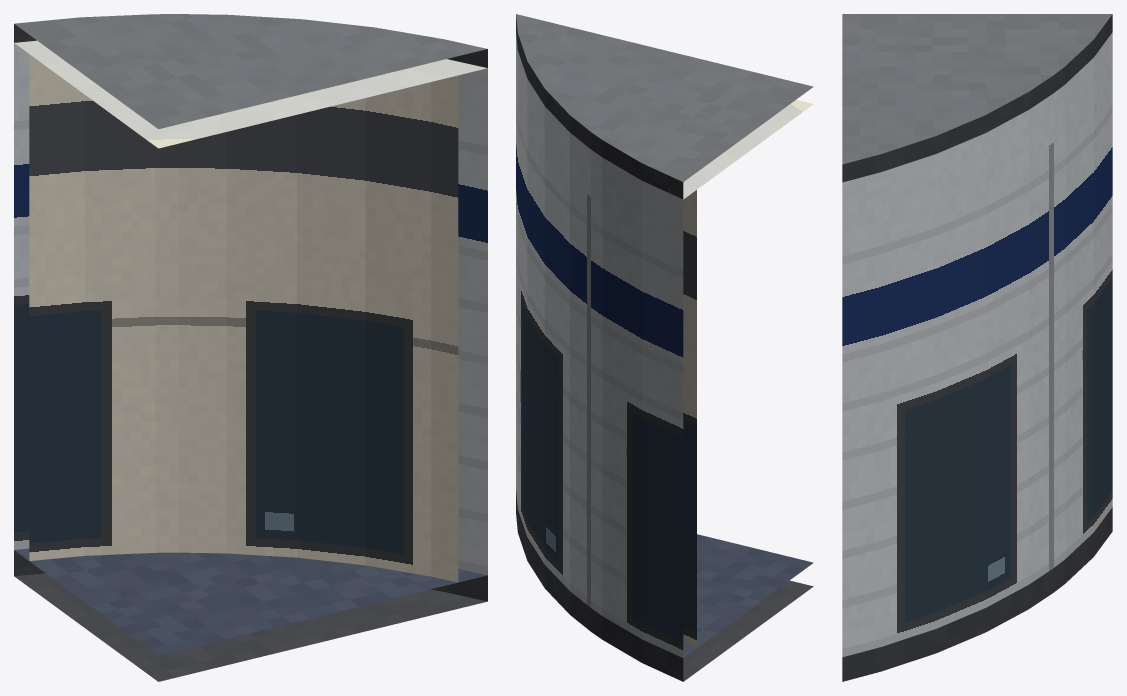
The model's file is airport_jet_bridge_uturn_c3.obj.
3 renders of one model, left to right at view 1: azimuth 30°, elevation 25°; view 2: azimuth 150°, elevation 25°; view 3: azimuth 270°, elevation 25°, orthographic. The views are drawn at different scales.
Parts seen in each view (by area): view 1: airport_jet_bridge_uturn_c3; view 2: airport_jet_bridge_uturn_c3; view 3: airport_jet_bridge_uturn_c3.
Boxes of the visible parts, left/top/right/bottom form: airport_jet_bridge_uturn_c3: left=14, top=14, right=487, bottom=681; airport_jet_bridge_uturn_c3: left=516, top=14, right=813, bottom=681; airport_jet_bridge_uturn_c3: left=842, top=14, right=1112, bottom=681.
Size of the model in its own units: 1.23 by 1.98 by 0.9352.
